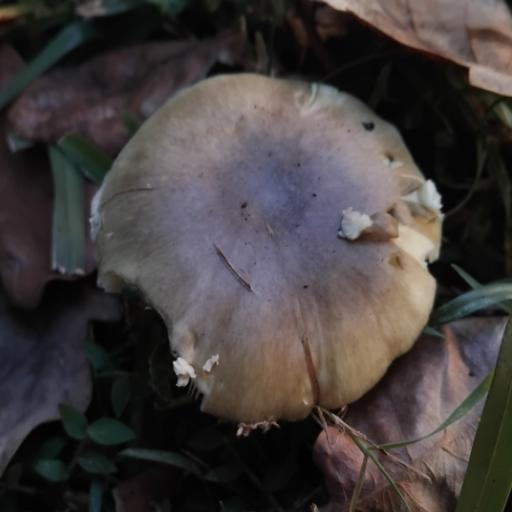mushroom: (34, 5, 507, 478)
